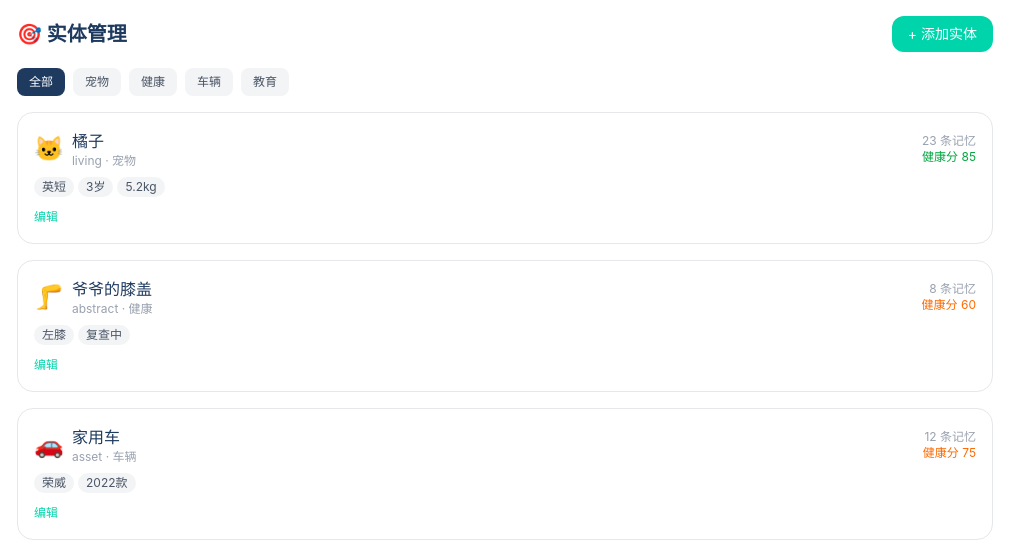
Test: Entities page › filters entities by realm
Expected: the text "橘子" is shown, [72,131,104,151]
Expected: the text "爷爷的膝盖" is shown, [72,277,152,301]
# Click "健康" filter
Click the button "健康" at coordinates (153, 82), box [129,68,177,96]
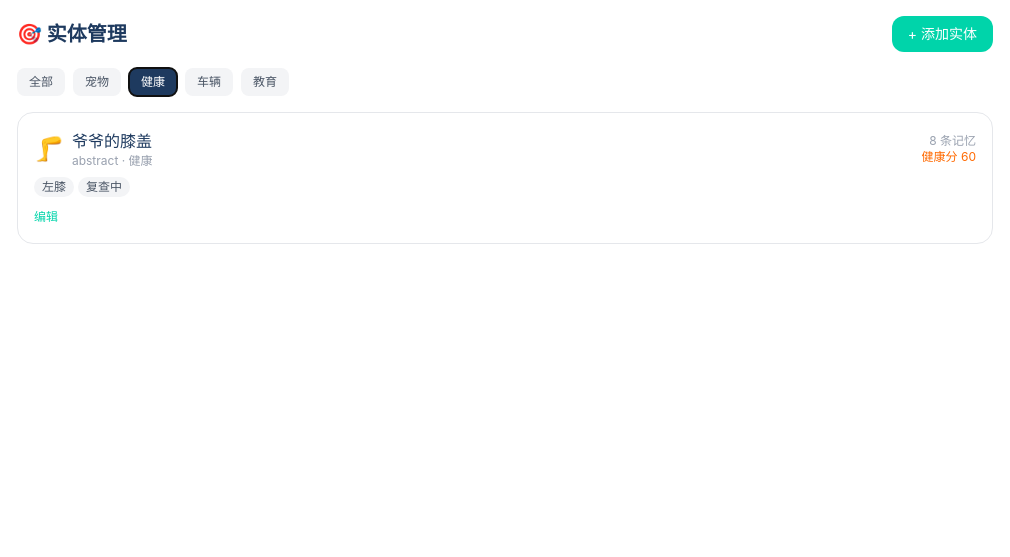
Expected: the text "爷爷的膝盖" is shown, [72,129,152,153]
Expected: the text "橘子" is gone
Expected: the text "家用车" is gone
# Click "全部" to reset
Click the button "全部" at coordinates (41, 82), box [17,68,65,96]
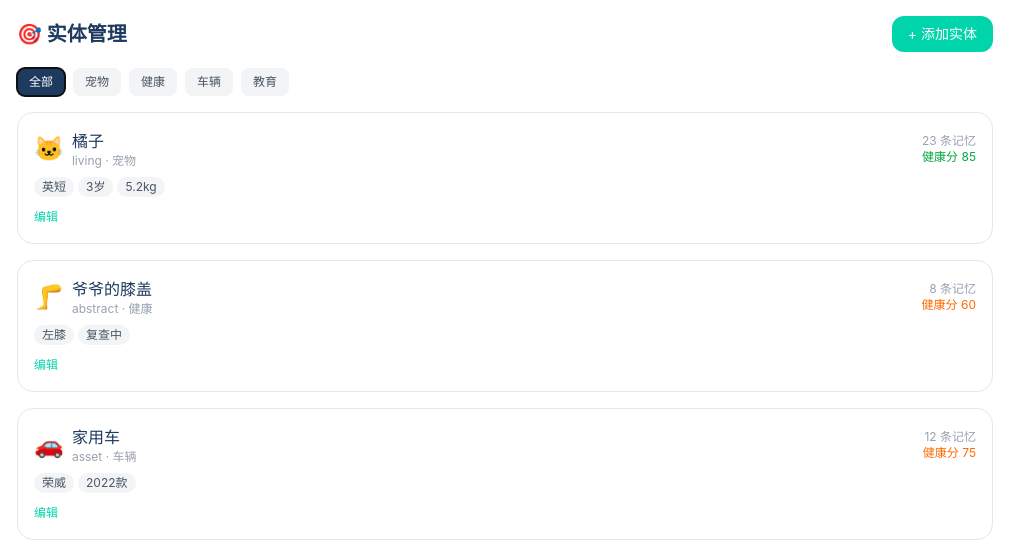
Expected: the text "橘子" is shown, [72,131,104,151]
Expected: the text "家用车" is shown, [72,427,120,447]
